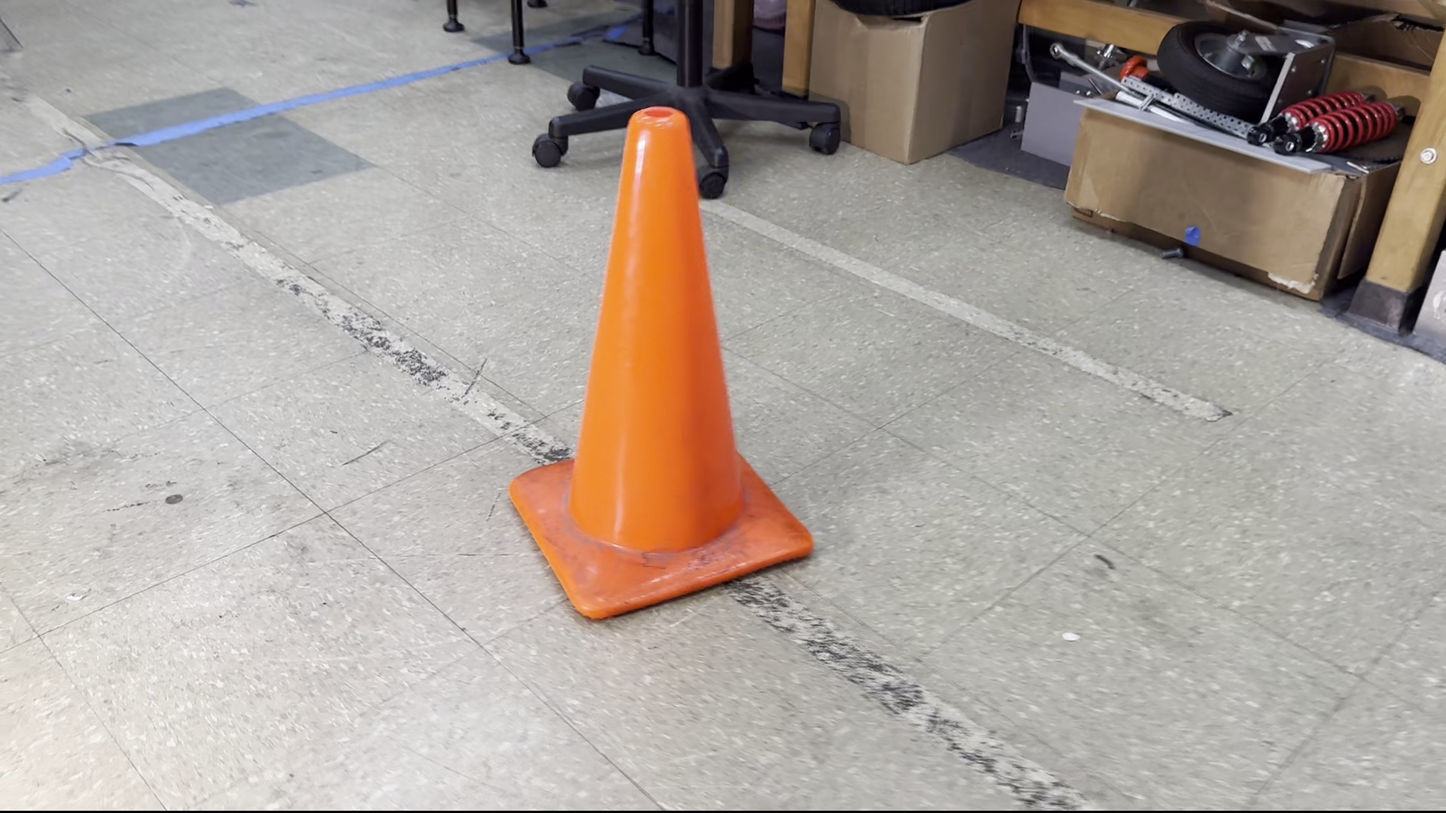traffic_cone: (507, 105, 814, 621)
